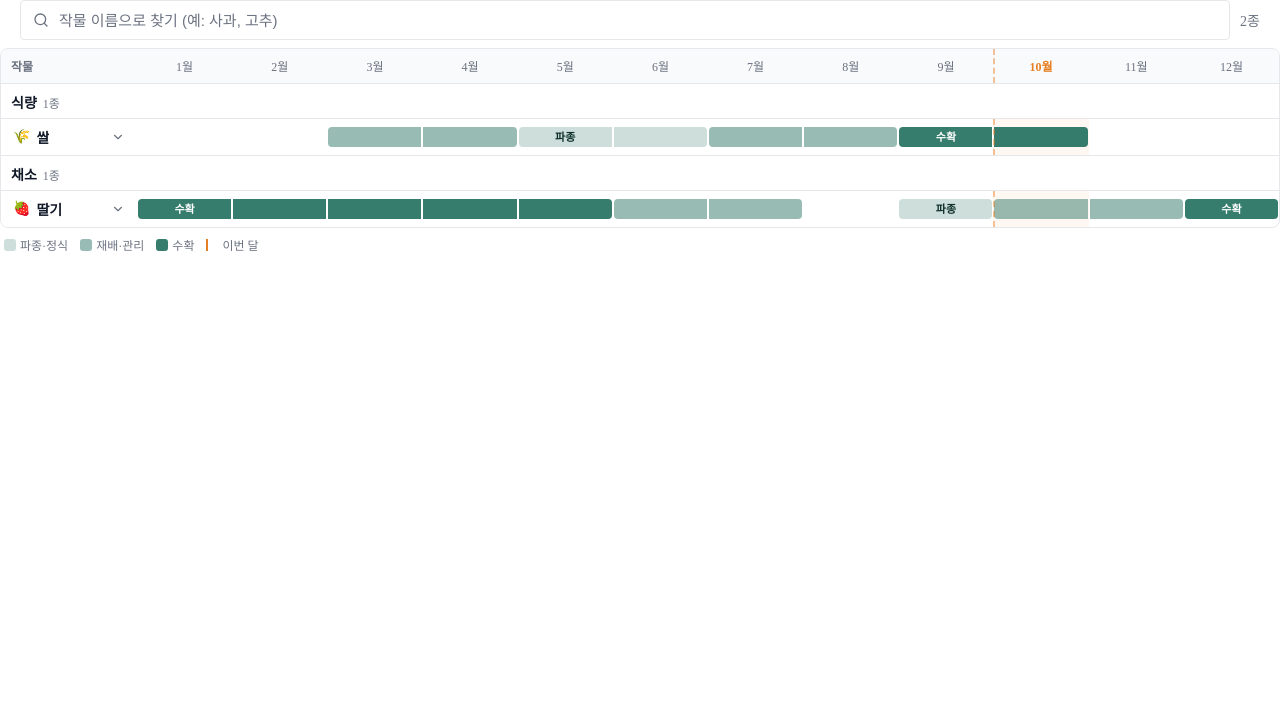
Test case: FarmingCalendar 행 확장 › 행을 클릭하면 aria-expanded가 켜지고 상세 패널이 열린다
Click the button "🍓 딸기" at (69, 209), box x1=13 y1=199 x2=125 y2=219
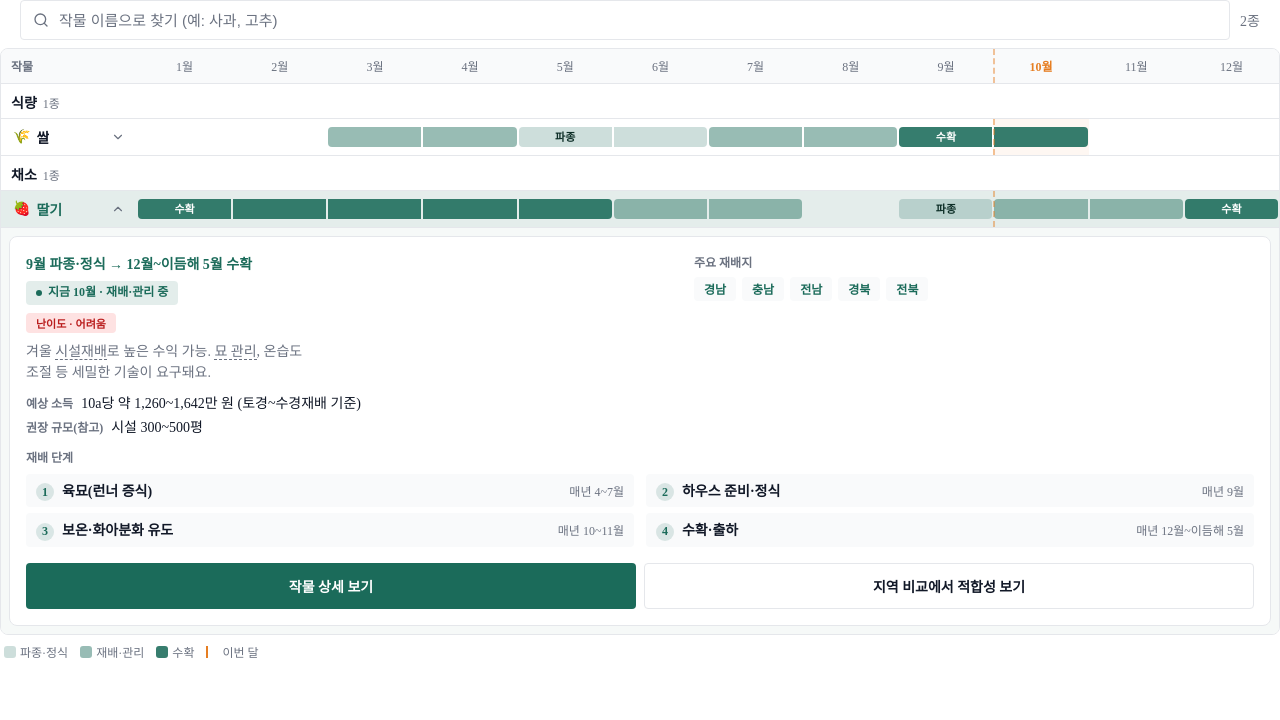
Check: the button "🍓 딸기" is expanded, box x1=13 y1=199 x2=125 y2=219
